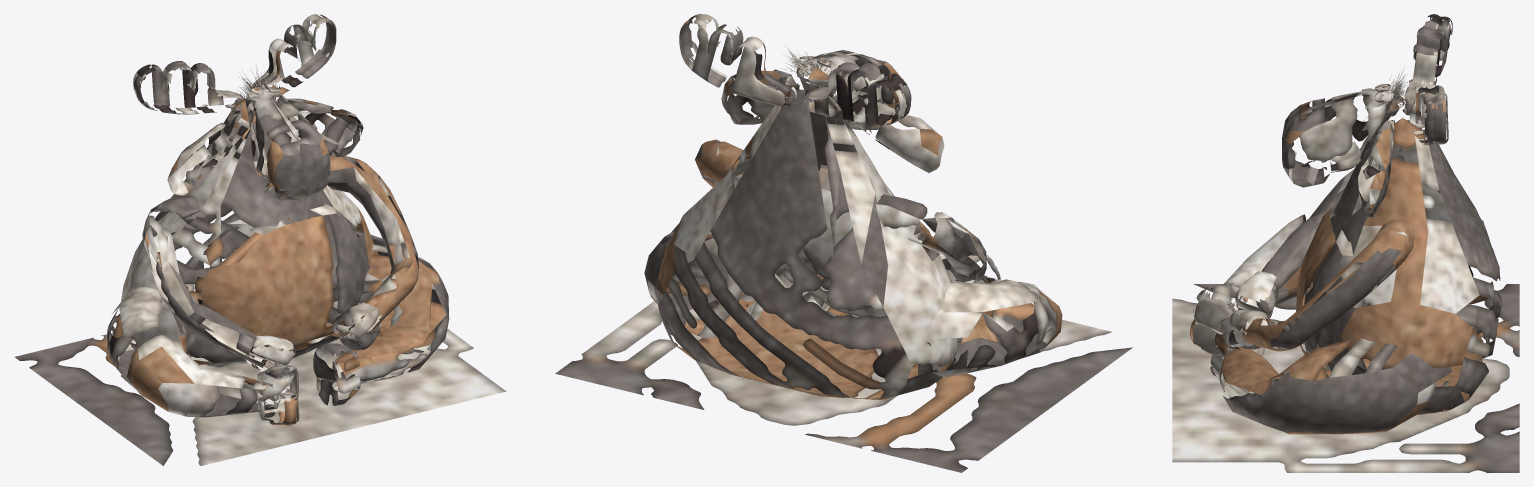
File: raw_model.obj
The picture shows the model from 3 angles, left to right: view 1: azimuth 30°, elevation 25°; view 2: azimuth 150°, elevation 25°; view 3: azimuth 270°, elevation 25°; orthographic projection. The views are drawn at different scales.
Visible parts, largest first — view 1: solid_001, shadow, solid_005, solid_002; view 2: solid_001, shadow, solid_002, solid_005; view 3: solid_001, shadow, solid_002, solid_005, solid_006.
Boxes of the visible parts, <box> form: solid_001: <box>107,85,449,417</box>; shadow: <box>15,329,506,465</box>; solid_005: <box>194,100,366,358</box>; solid_002: <box>133,14,383,425</box>; solid_001: <box>644,50,1062,399</box>; shadow: <box>555,288,1132,472</box>; solid_002: <box>679,14,1000,283</box>; solid_005: <box>723,74,931,316</box>; solid_001: <box>1218,88,1501,434</box>; shadow: <box>1172,284,1519,472</box>; solid_002: <box>1190,14,1452,384</box>; solid_005: <box>1283,117,1393,370</box>; solid_006: <box>1383,67,1411,112</box>.
Size of the model in its own units: 0.4578 by 0.3752 by 0.3551.
